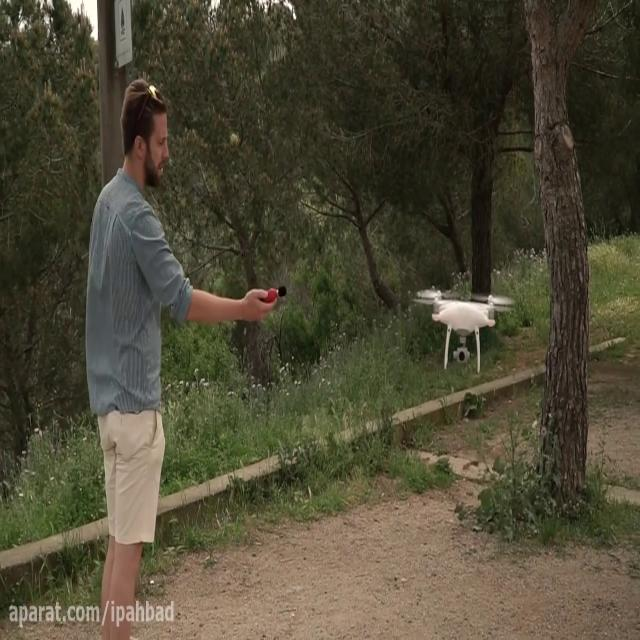drone: (414, 288, 516, 368)
